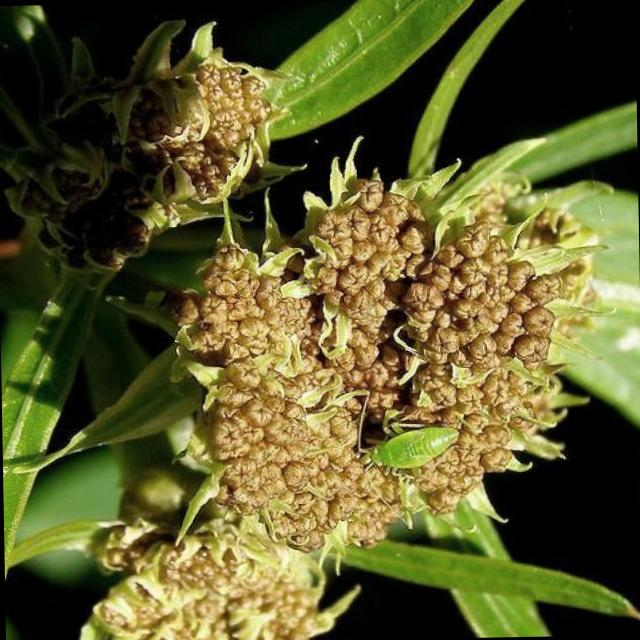aphid: (356, 398, 469, 489)
